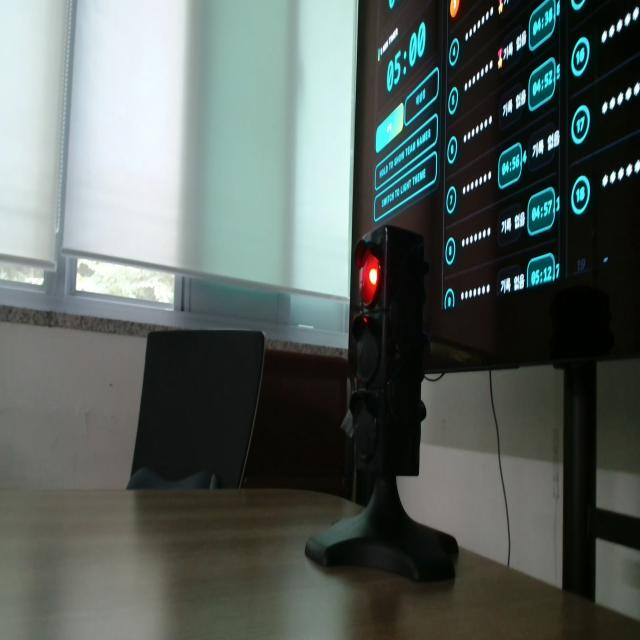red_light: (360, 249, 380, 306), (369, 268, 377, 286)
